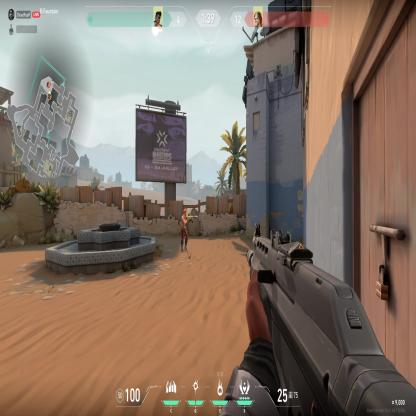enemy: (178, 207, 194, 254)
